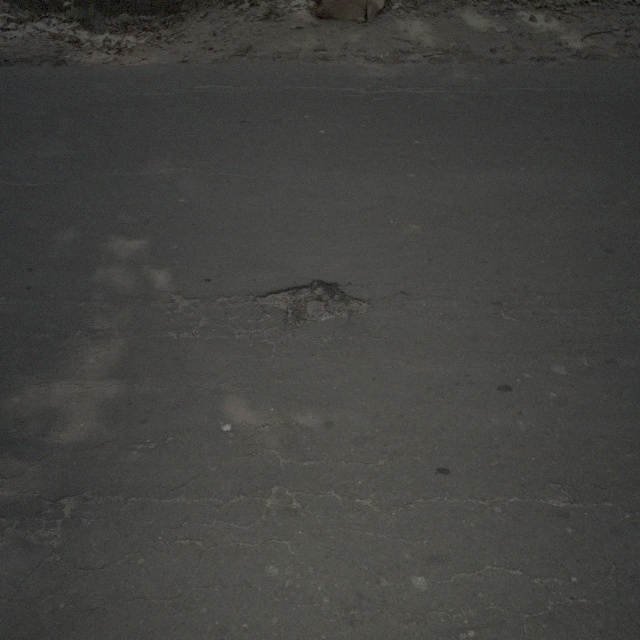pothole: (250, 276, 372, 326)
